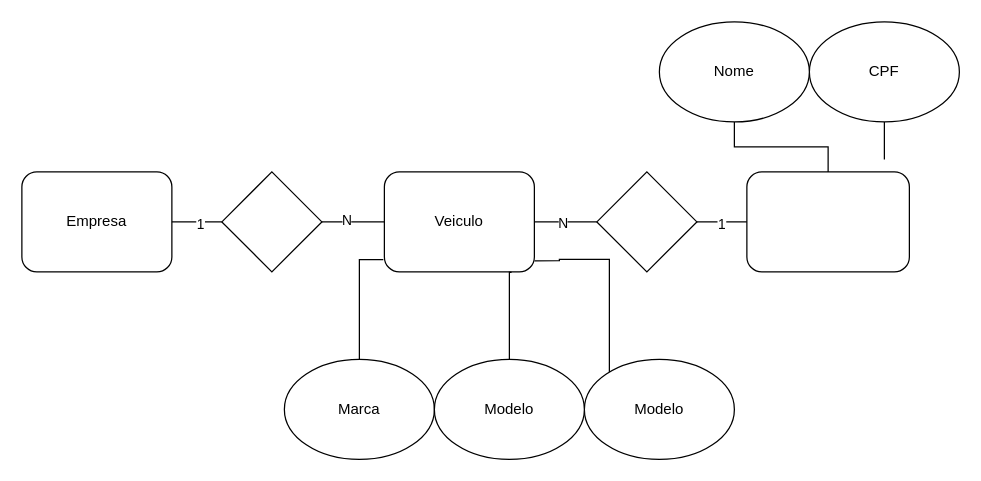
The diagram is 981 pixels wide and 481 high, and some of its shapes have lost their labels. The shapes that lost their labels are listed below. From the top down, each one's box as (x1, y1, x2, y2) in pixels, then its label:
(221, 171, 322, 272): Possui
(596, 171, 697, 272): Aluga
(746, 171, 909, 272): Cliente
